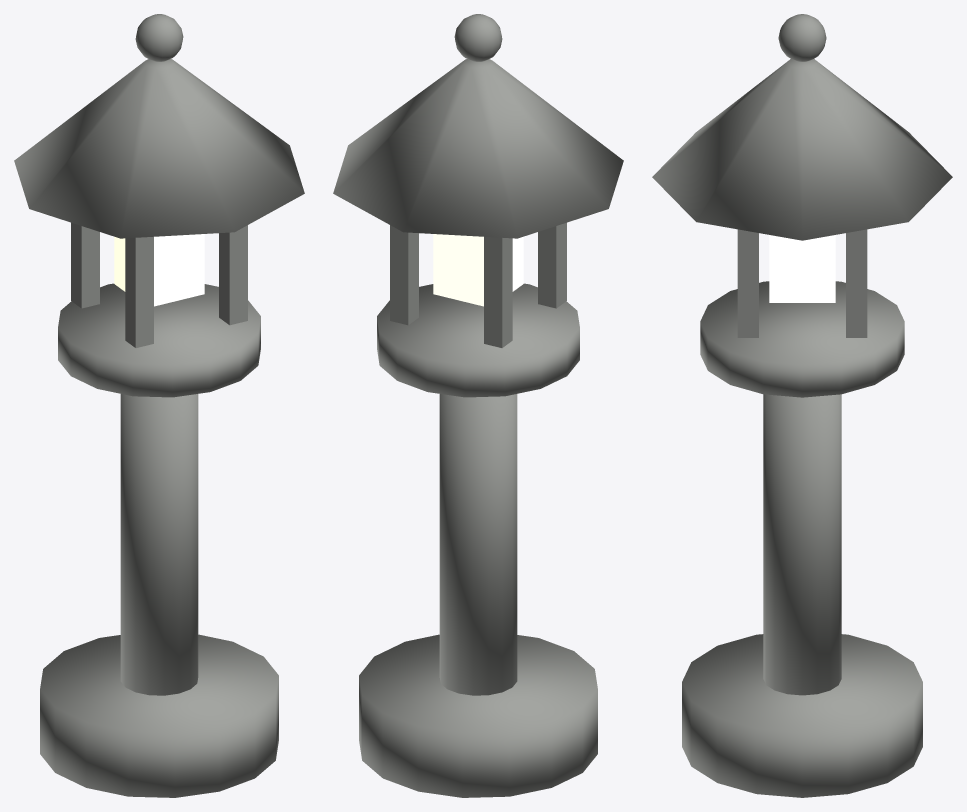
File: prop_ishidoro.glb
3 views of the same model, side by side, from view 1: azimuth 30°, elevation 25°; view 2: azimuth 150°, elevation 25°; view 3: azimuth 270°, elevation 25° (orthographic).
Visible parts, largest first — view 1: ishidoro; view 2: ishidoro; view 3: ishidoro.
Boxes of the visible parts, box(x1,y1,x2,y2) form: ishidoro: box(14, 14, 304, 797); ishidoro: box(333, 14, 623, 797); ishidoro: box(652, 14, 952, 797).
Bounding box in the file's own units: 1 × 2.68 × 1.
